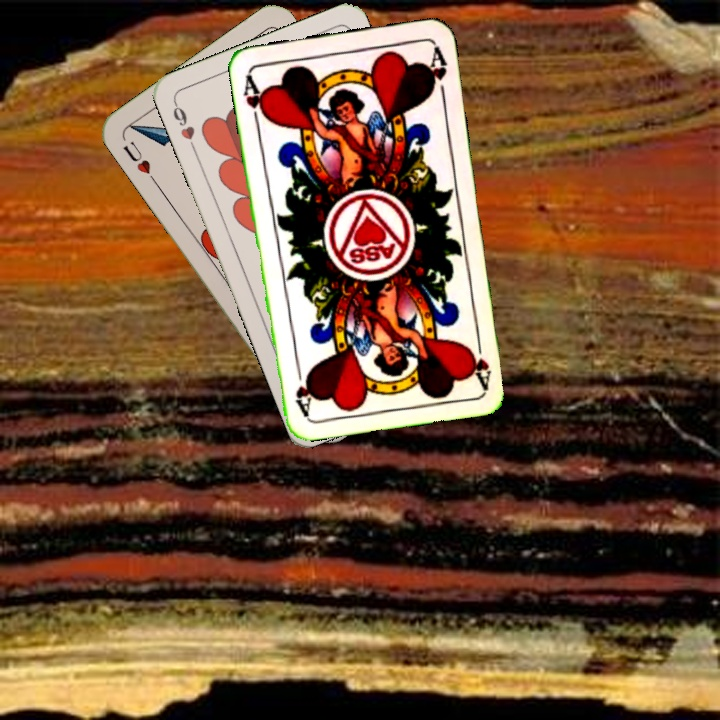H9: (168, 97, 199, 154)
HA: (239, 70, 271, 129), (464, 330, 494, 389)
HU: (119, 137, 159, 186)
